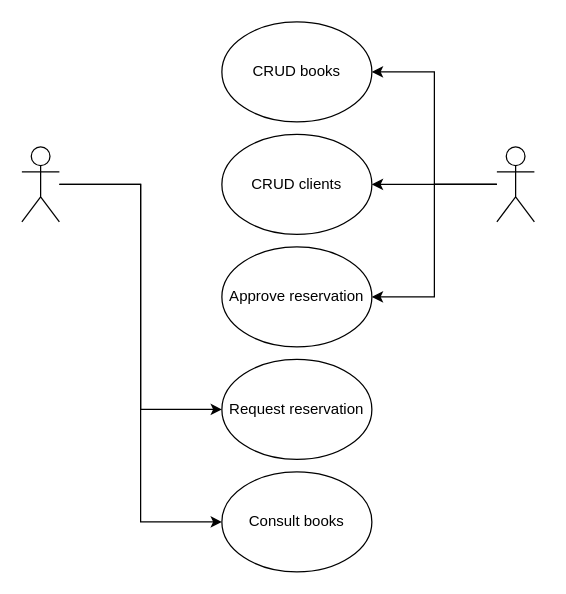
Image size: 566x594. Some labels were removed from this diagram. The shapes that lost their labels are listed below. From the top down, each one's box as (x1, y1, x2, y2) in pixels, then its label:
(21, 146, 59, 222): Client
(496, 146, 534, 222): Librarian
